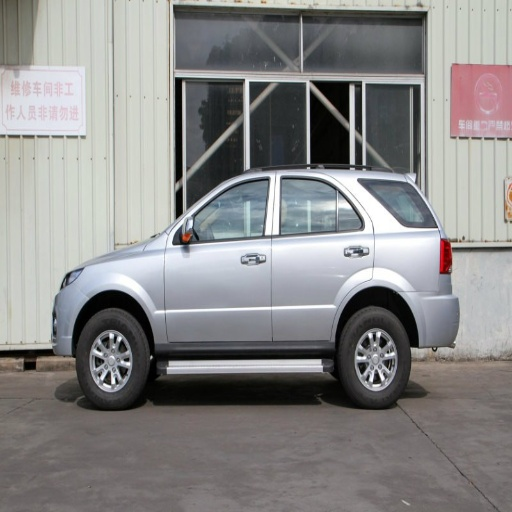back_glass: (370, 181, 433, 226)
back_left_door: (271, 174, 372, 343)
front_left_door: (169, 175, 275, 343)
